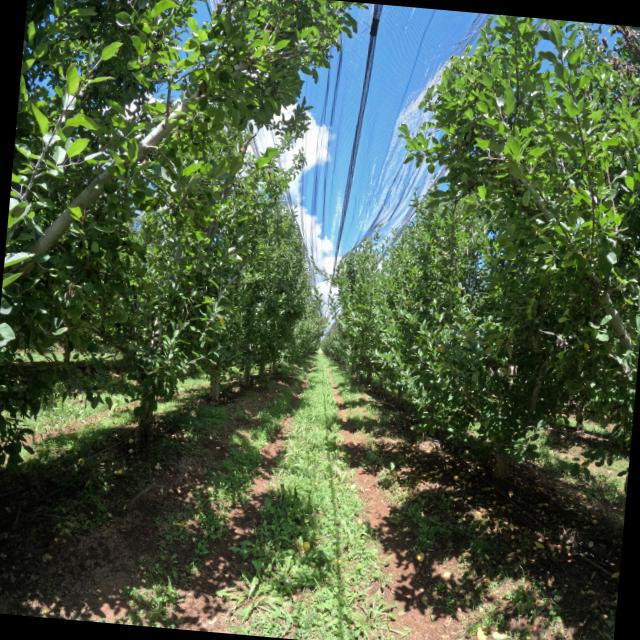-FireBlight-: (593, 25, 640, 82), (555, 334, 571, 354)
